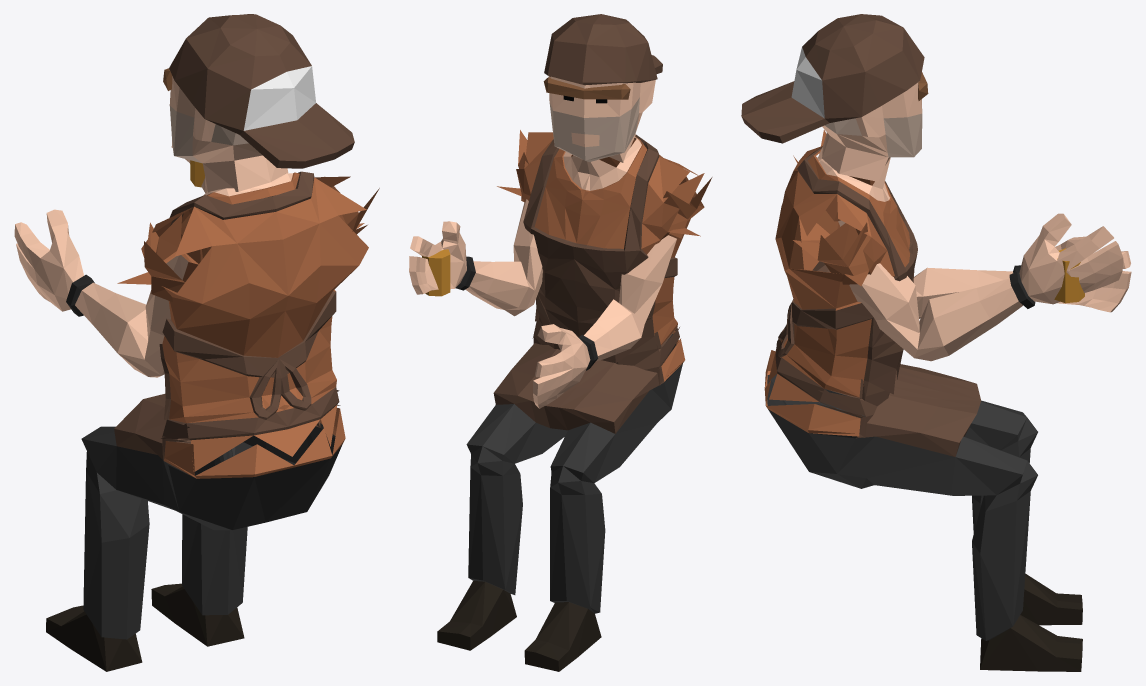
The model's file is Uncle_Seated.obj.
The picture shows the model from 3 angles, left to right: view 1: azimuth 30°, elevation 25°; view 2: azimuth 150°, elevation 25°; view 3: azimuth 270°, elevation 25°; orthographic projection. The views are drawn at different scales.
Parts seen in each view (by area): view 1: Uncle_Seated; view 2: Uncle_Seated; view 3: Uncle_Seated.
Part boxes in pixels (x1,y1,x2,y2): Uncle_Seated: [14, 14, 379, 671]; Uncle_Seated: [409, 14, 712, 671]; Uncle_Seated: [741, 14, 1131, 671].
Size of the model in its own units: 0.5658 by 1.49 by 0.85.
Materials: 2 (2 with a texture image).
